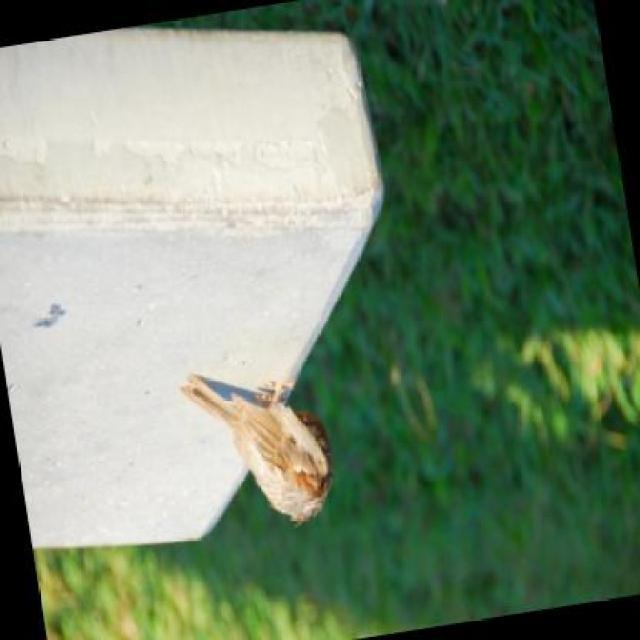Bird: (171, 372, 338, 531)
